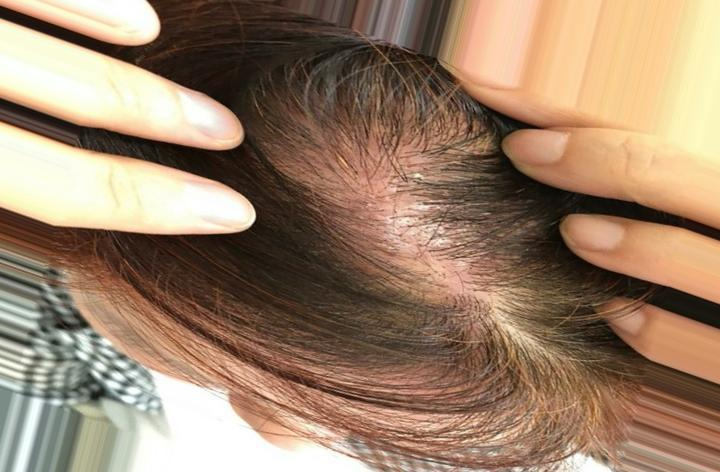Contact Dermatitis: (281, 118, 478, 338)
